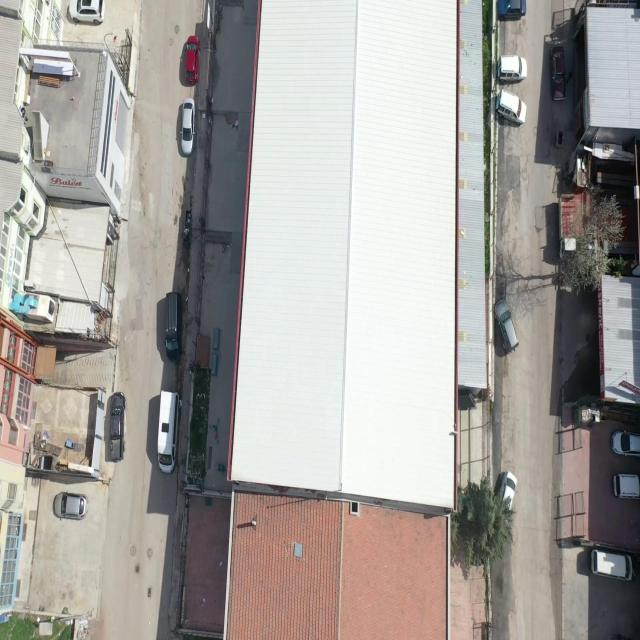p3rson: (566, 68, 574, 84)
